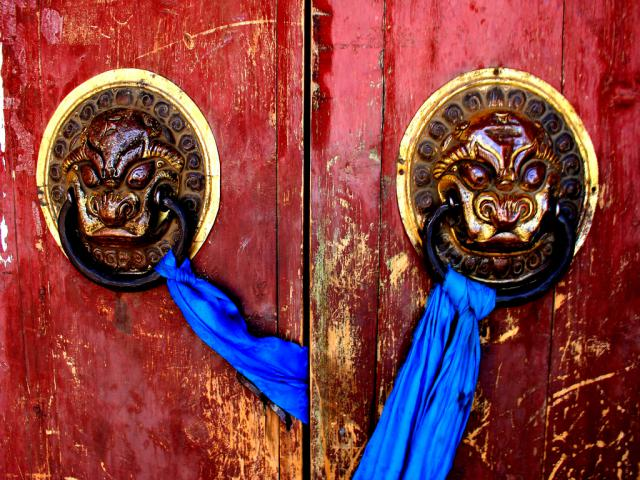Door-handle: (395, 65, 599, 312), (36, 65, 220, 293)
